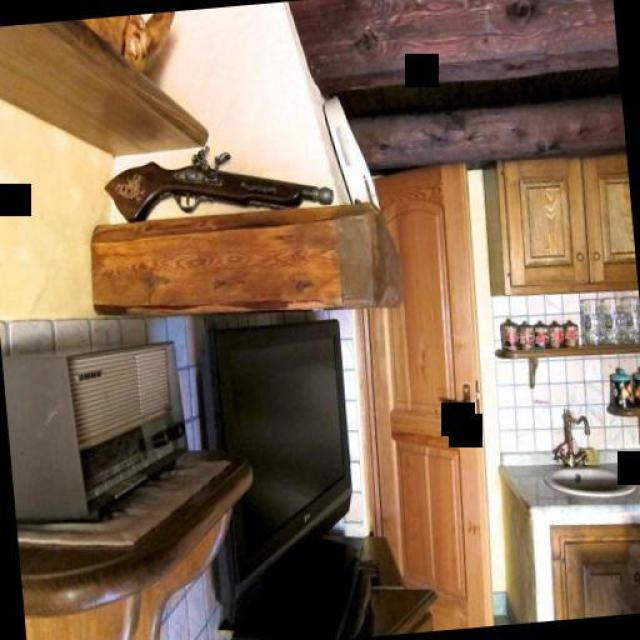gun: (100, 135, 332, 239)
